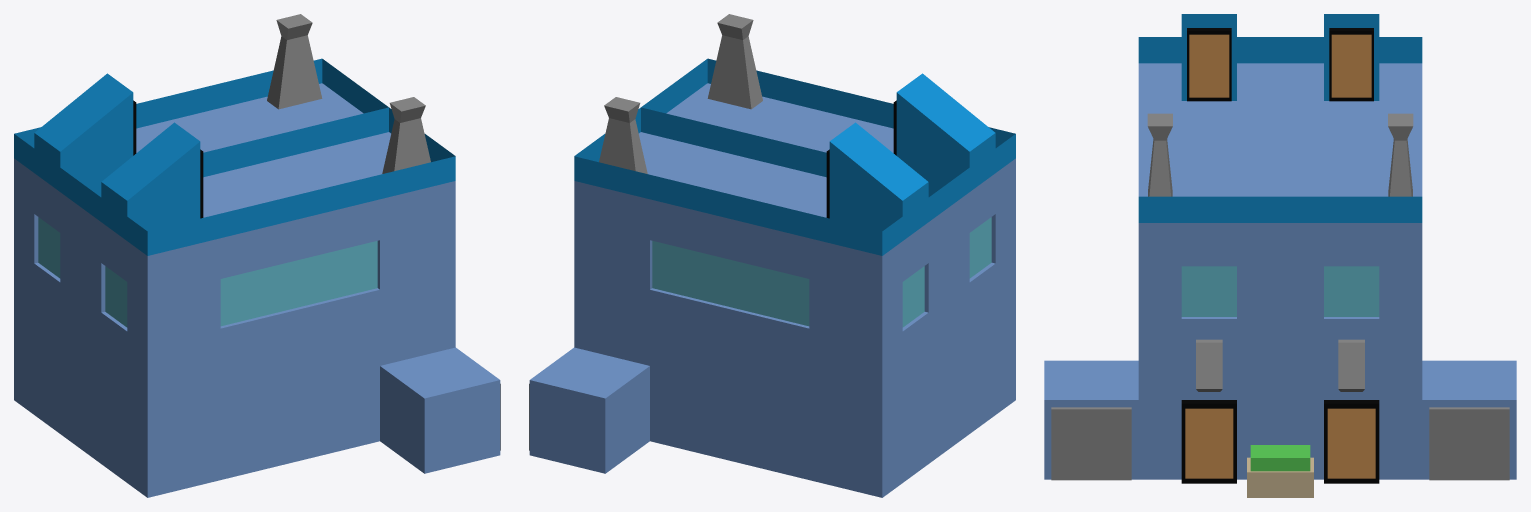
File: TownHomes02.fbx
3 views of the same model, side by side, from view 1: azimuth 30°, elevation 25°; view 2: azimuth 150°, elevation 25°; view 3: azimuth 270°, elevation 25° (orthographic). The views are drawn at different scales.
Parts seen in each view (by area): view 1: Cube; view 2: Cube; view 3: Cube.
Boxes of the visible parts, x1,y1,x2,y2 form: Cube: [14, 14, 500, 497]; Cube: [529, 14, 1015, 497]; Cube: [1044, 14, 1516, 497].
Size of the model in its own units: 892 by 803 by 1000.
